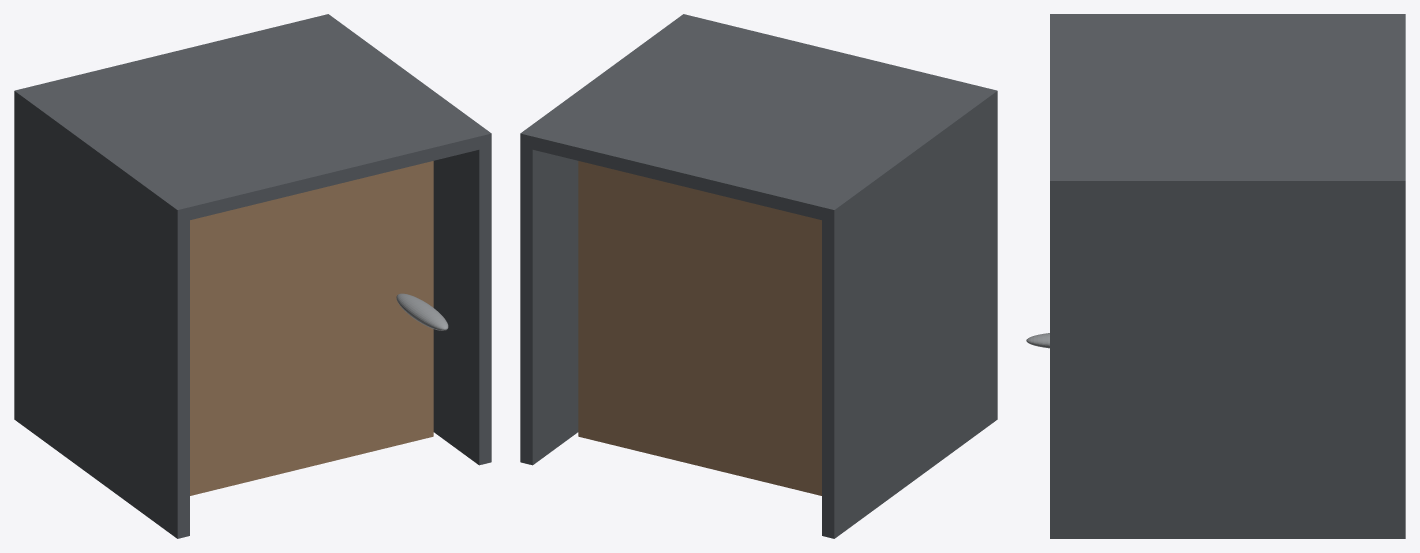
Rendered from door.glb.
3 views of the same model, side by side, from view 1: azimuth 30°, elevation 25°; view 2: azimuth 150°, elevation 25°; view 3: azimuth 270°, elevation 25° (orthographic). The views are drawn at different scales.
Parts seen in each view (by area): view 1: Door_Panel_0, Door_Jamb_1, Door_Lintel_3, Door_Jamb_2, Door_Handle_4; view 2: Door_Panel_0, Door_Jamb_1, Door_Lintel_3, Door_Jamb_2; view 3: Door_Jamb_2, Door_Lintel_3, Door_Jamb_1.
Boxes of the visible parts, left/top/right/bottom form: Door_Panel_0: left=190, top=161, right=433, bottom=495; Door_Jamb_1: left=14, top=87, right=189, bottom=538; Door_Lintel_3: left=14, top=14, right=491, bottom=222; Door_Jamb_2: left=316, top=14, right=491, bottom=465; Door_Handle_4: left=396, top=293, right=448, bottom=330; Door_Panel_0: left=578, top=161, right=821, bottom=495; Door_Jamb_1: left=822, top=87, right=997, bottom=538; Door_Lintel_3: left=520, top=14, right=997, bottom=222; Door_Jamb_2: left=520, top=14, right=695, bottom=465; Door_Jamb_2: left=1050, top=174, right=1405, bottom=538; Door_Lintel_3: left=1050, top=14, right=1405, bottom=195; Door_Jamb_1: left=1050, top=14, right=1405, bottom=20.
Size of the model in its own units: 1 by 1 by 0.96.
